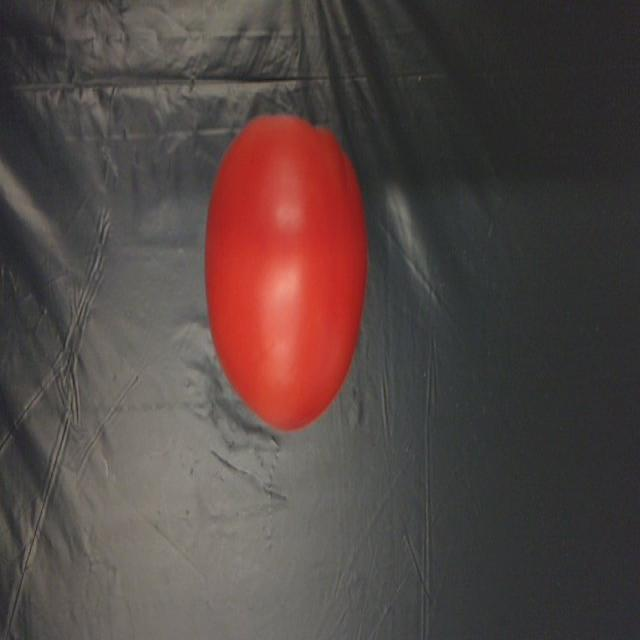kirmizi: (206, 91, 370, 444)
